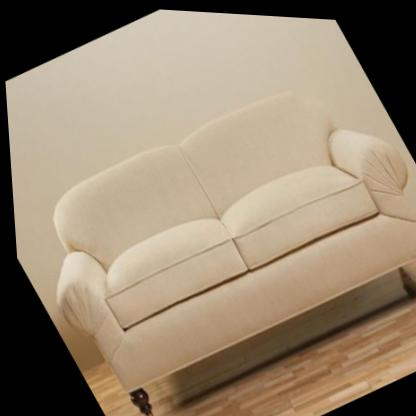Sofa: (2, 35, 416, 416)
